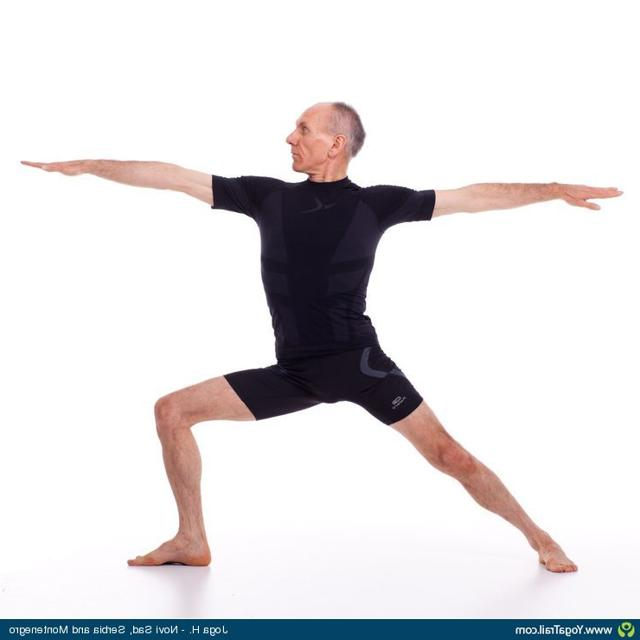Warrior_II: (27, 94, 628, 577)
